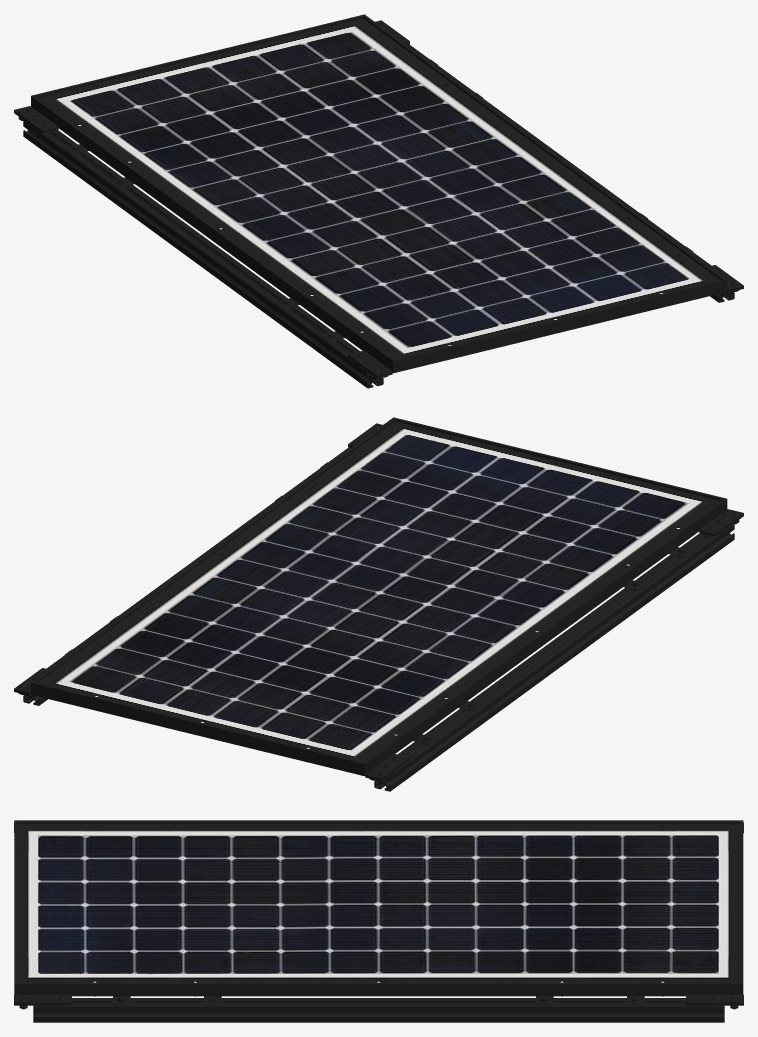
Rendered from 220W_newpowa_sp.glb.
3 renders of one model, top to bottom at view 1: azimuth 30°, elevation 25°; view 2: azimuth 150°, elevation 25°; view 3: azimuth 270°, elevation 25°, orthographic.
Visible parts, largest first — view 1: new_solar220; view 2: new_solar220; view 3: new_solar220.
Part boxes in pixels (x1,y1,x2,y2): new_solar220: (14,14,743,388); new_solar220: (14,417,743,791); new_solar220: (14,820,743,1022).
Size of the model in its own units: 0.8434 by 0.0669 by 1.44.
1 material, 1 textured.
